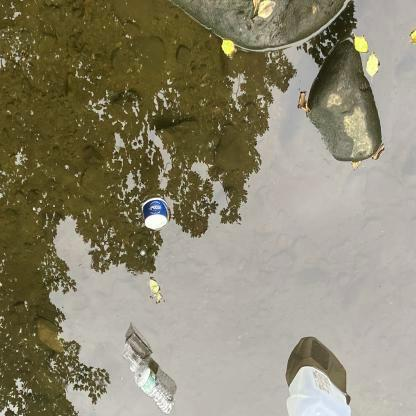Plastic: (279, 366, 353, 416), (127, 357, 177, 416)
Trash: (142, 193, 170, 234)
